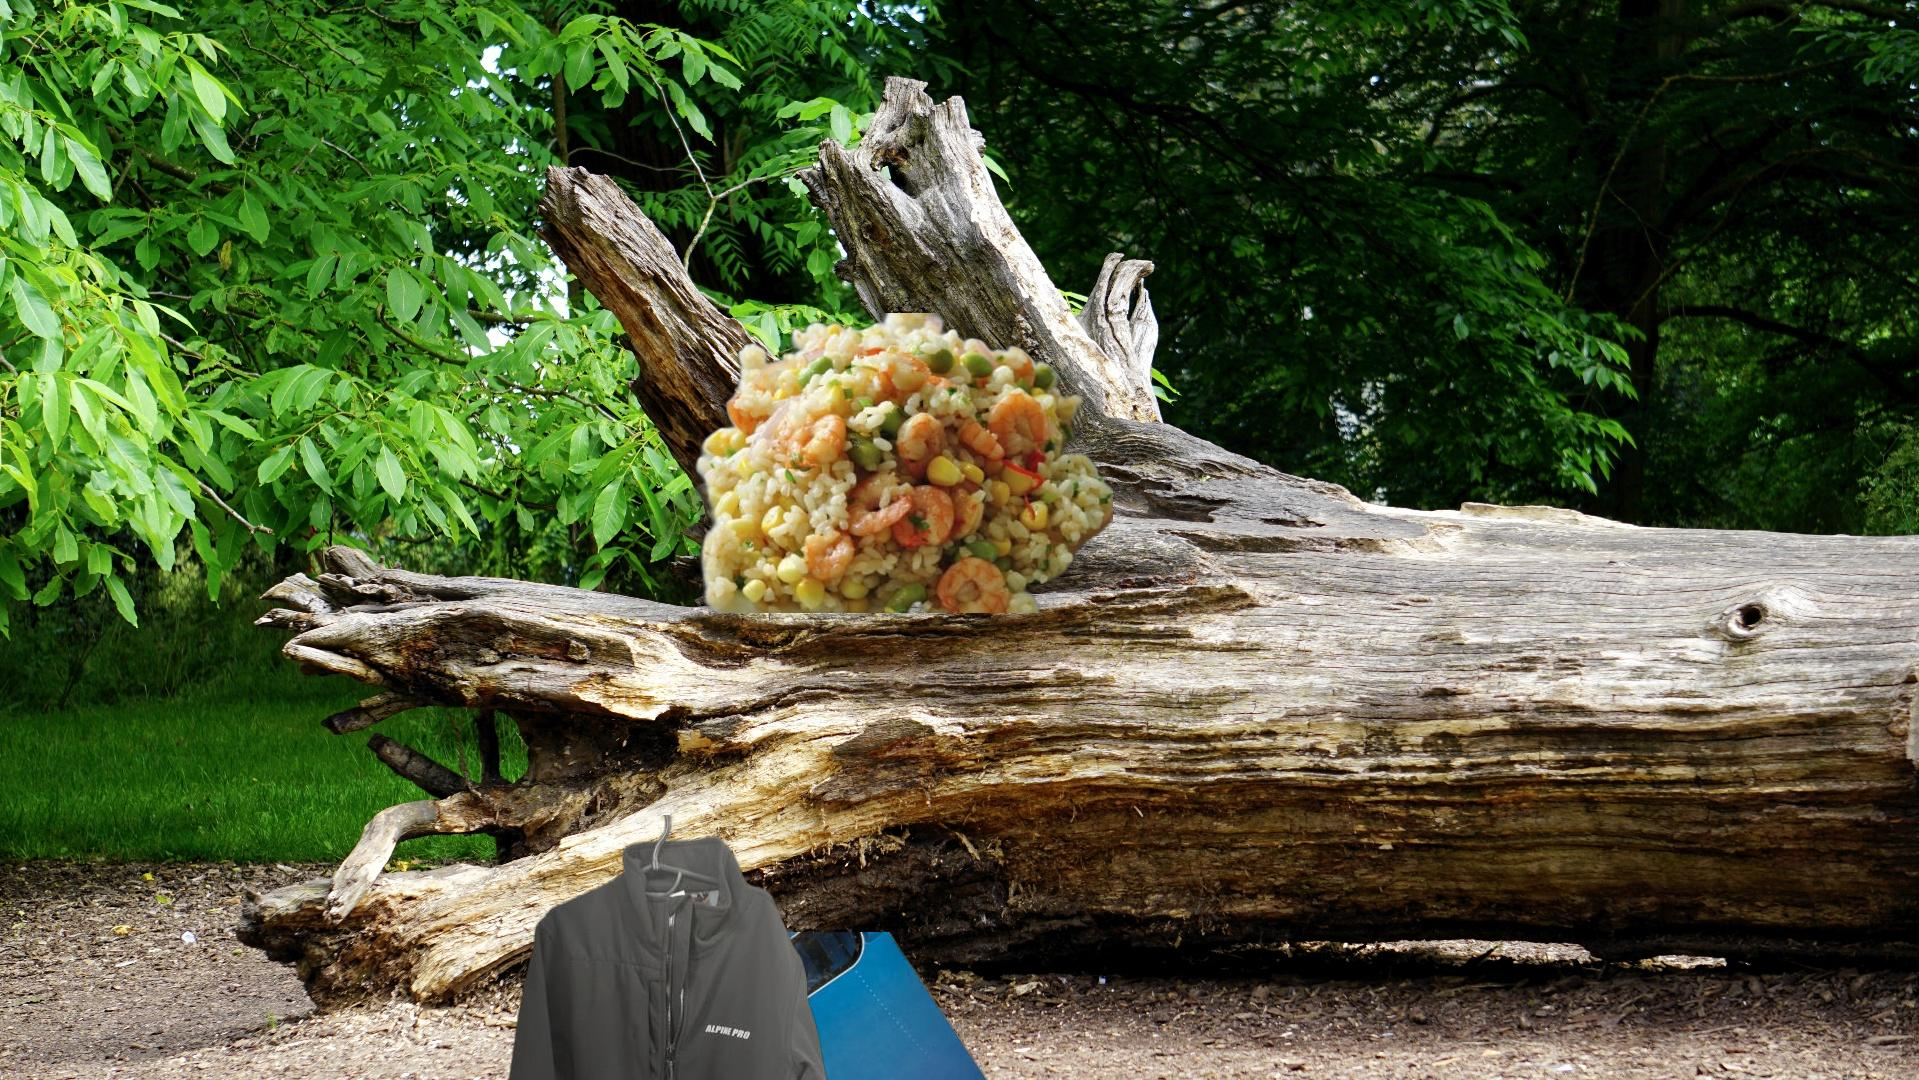biological: (650, 313, 1112, 613), (50, 233, 243, 495)
clothes: (496, 815, 840, 1080)
paper: (579, 932, 1090, 1080)
